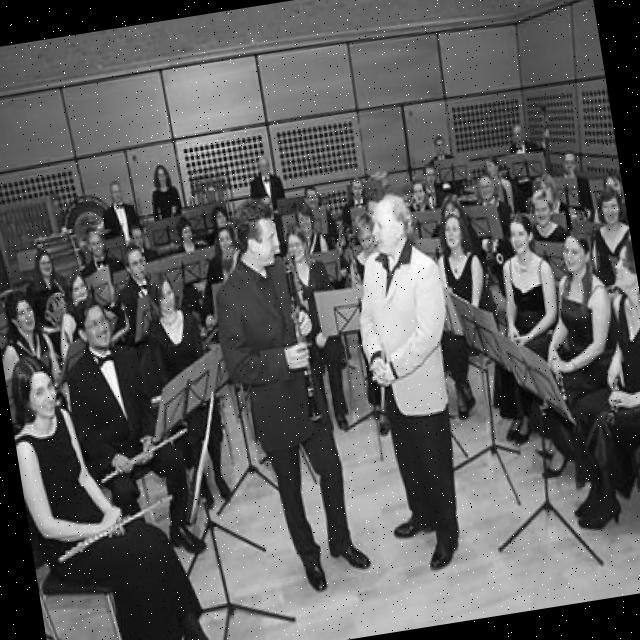clarinet: (280, 253, 324, 426)
